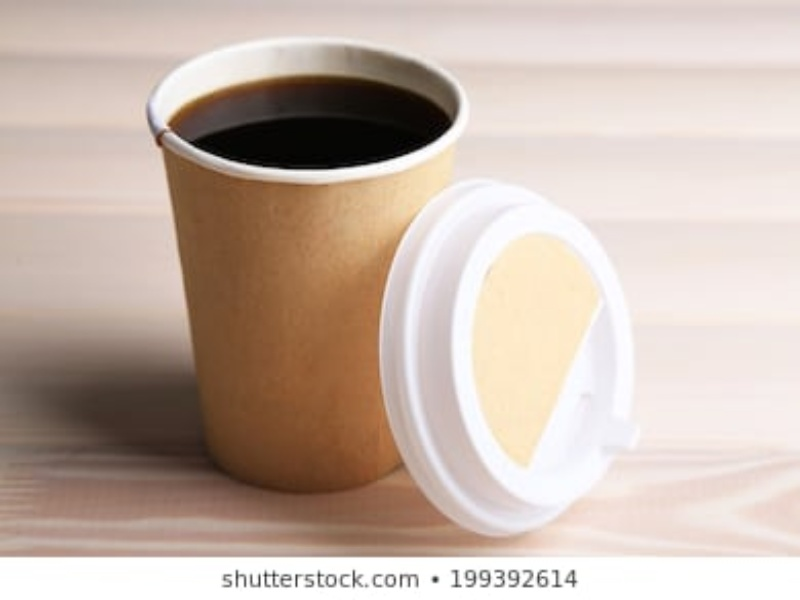coffee-lid: (378, 175, 644, 540)
plastic-cup: (144, 36, 476, 498)
